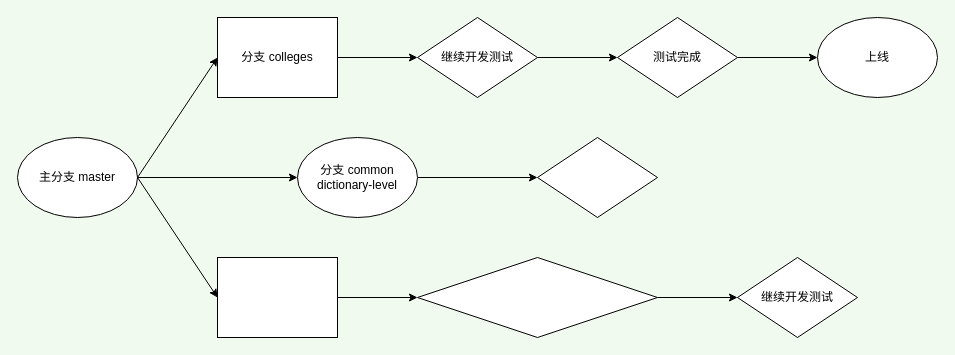
Image size: 955x355. Some labels were removed from this diagram. Here are the shapes that lost their labels. From the top down, the box of each, then its label:
(536, 136, 658, 218): 开发测试完成
(216, 256, 338, 338): 分支 forces
(416, 256, 658, 338): 继续开发测试 （要求测试全部功能）
